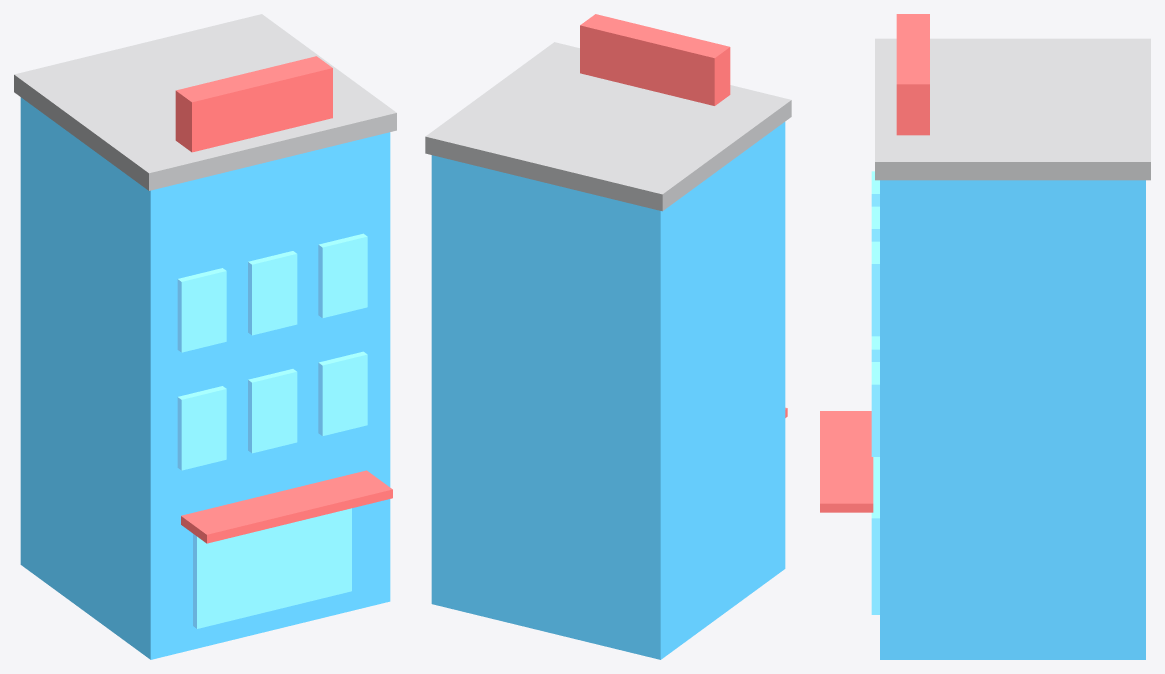
The model's file is commercial_3.glb.
3 renders of one model, left to right at view 1: azimuth 30°, elevation 25°; view 2: azimuth 150°, elevation 25°; view 3: azimuth 270°, elevation 25°, orthographic. The views are drawn at different scales.
Visible parts, largest first — view 1: commercial_3; view 2: commercial_3; view 3: commercial_3.
Part boxes in pixels (x1,y1,x2,y2): commercial_3: (14, 14, 396, 659); commercial_3: (425, 14, 791, 659); commercial_3: (820, 14, 1150, 659).
Bounding box in the file's own units: 0.88 × 1.83 × 0.995.
